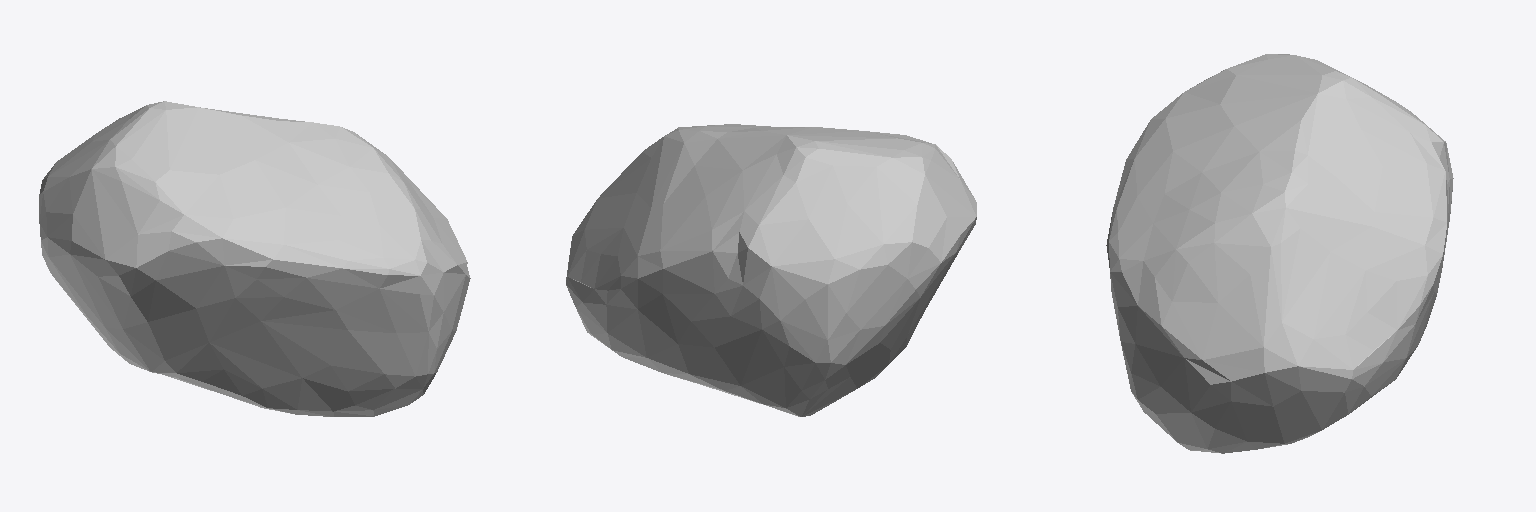
File: Rock4.obj
3 views of the same model, side by side, from view 1: azimuth 30°, elevation 25°; view 2: azimuth 150°, elevation 25°; view 3: azimuth 270°, elevation 25° (orthographic).
Parts seen in each view (by area): view 1: Rock4; view 2: Rock4; view 3: Rock4.
Boxes of the visible parts, x1,y1,x2,y2 form: Rock4: [39, 101, 470, 416]; Rock4: [566, 124, 976, 416]; Rock4: [1106, 54, 1453, 453].
Size of the model in its own units: 17.27 by 12.71 by 13.59.